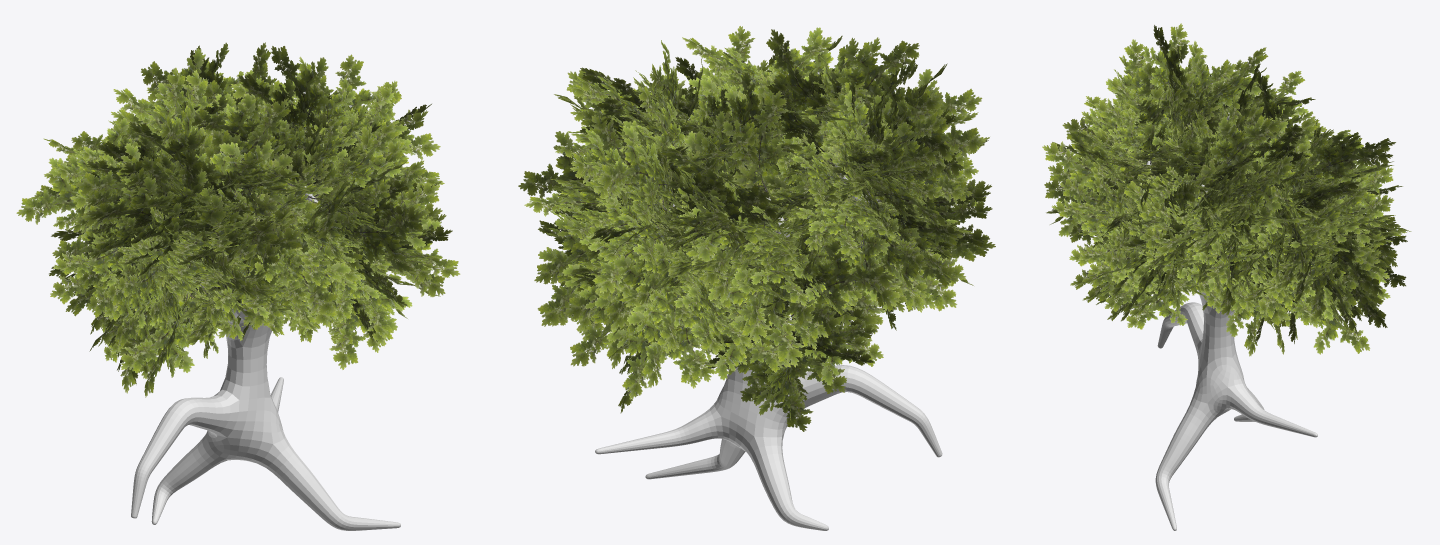
File: TreeFinal.fbx
3 renders of one model, left to right at view 1: azimuth 30°, elevation 25°; view 2: azimuth 150°, elevation 25°; view 3: azimuth 270°, elevation 25°, orthographic. The views are drawn at different scales.
Visible parts, largest first — view 1: Plane, Plane|Branche|Dupli|2103, Plane|Branche|Dupli|767, Plane|Branche|Dupli|2835, Plane|Branche|Dupli|2159, Plane|Branche|Dupli|176, Plane|Branche|Dupli|1263, Plane|Branche|Dupli|1332, Plane|Branche|Dupli|2058, Plane|Branche|Dupli|379, Plane|Branche|Dupli|1251, Plane|Branche|Dupli|217 (+53 smaller); view 2: Plane, Plane|Branche|Dupli|387, Plane|Branche|Dupli|2991, Plane|Branche|Dupli|2667, Plane|Branche|Dupli|1983, Plane|Branche|Dupli|379, Plane|Branche|Dupli|2992, Plane|Branche|Dupli|543, Plane|Branche|Dupli|2577, Plane|Branche|Dupli|2472, Plane|Branche|Dupli|2386, Plane|Branche|Dupli|2412 (+74 smaller); view 3: Plane, Plane|Branche|Dupli|2835, Plane|Branche|Dupli|1983, Plane|Branche|Dupli|2675, Plane|Branche|Dupli|2161, Plane|Branche|Dupli|2666, Plane|Branche|Dupli|2794, Plane|Branche|Dupli|2551, Plane|Branche|Dupli|618, Plane|Branche|Dupli|529, Plane|Branche|Dupli|2106, Plane|Branche|Dupli|2667 (+49 smaller).
Boxes of the visible parts, left/top/right/bottom form: Plane: left=131, top=186, right=400, bottom=530; Plane|Branche|Dupli|2103: left=343, top=203, right=423, bottom=272; Plane|Branche|Dupli|767: left=120, top=289, right=200, bottom=373; Plane|Branche|Dupli|2835: left=271, top=46, right=331, bottom=137; Plane|Branche|Dupli|2159: left=314, top=123, right=401, bottom=200; Plane|Branche|Dupli|176: left=16, top=157, right=91, bottom=230; Plane|Branche|Dupli|1263: left=212, top=130, right=277, bottom=223; Plane|Branche|Dupli|1332: left=88, top=176, right=180, bottom=228; Plane|Branche|Dupli|2058: left=191, top=94, right=279, bottom=143; Plane|Branche|Dupli|379: left=229, top=99, right=290, bottom=165; Plane|Branche|Dupli|1251: left=274, top=234, right=351, bottom=327; Plane|Branche|Dupli|217: left=53, top=233, right=134, bottom=286; Plane: left=595, top=117, right=942, bottom=530; Plane|Branche|Dupli|387: left=721, top=90, right=789, bottom=196; Plane|Branche|Dupli|2991: left=791, top=242, right=894, bottom=316; Plane|Branche|Dupli|2667: left=828, top=40, right=919, bottom=117; Plane|Branche|Dupli|1983: left=597, top=125, right=672, bottom=204; Plane|Branche|Dupli|379: left=758, top=29, right=819, bottom=111; Plane|Branche|Dupli|2992: left=740, top=333, right=813, bottom=431; Plane|Branche|Dupli|543: left=518, top=131, right=629, bottom=198; Plane|Branche|Dupli|2577: left=606, top=306, right=657, bottom=399; Plane|Branche|Dupli|2472: left=701, top=315, right=791, bottom=380; Plane|Branche|Dupli|2386: left=579, top=227, right=660, bottom=293; Plane|Branche|Dupli|2412: left=646, top=322, right=717, bottom=381; Plane: left=1140, top=115, right=1317, bottom=530; Plane|Branche|Dupli|2835: left=1200, top=118, right=1280, bottom=187; Plane|Branche|Dupli|1983: left=1298, top=133, right=1392, bottom=182; Plane|Branche|Dupli|2675: left=1195, top=47, right=1268, bottom=120; Plane|Branche|Dupli|2161: left=1042, top=141, right=1140, bottom=199; Plane|Branche|Dupli|2666: left=1143, top=23, right=1189, bottom=114; Plane|Branche|Dupli|2794: left=1236, top=155, right=1293, bottom=214; Plane|Branche|Dupli|2551: left=1309, top=313, right=1370, bottom=354; Plane|Branche|Dupli|618: left=1126, top=287, right=1189, bottom=329; Plane|Branche|Dupli|529: left=1281, top=180, right=1359, bottom=217; Plane|Branche|Dupli|2106: left=1051, top=198, right=1131, bottom=242; Plane|Branche|Dupli|2667: left=1153, top=25, right=1190, bottom=109.
Size of the model in its own units: 1309 by 1541 by 1297.
